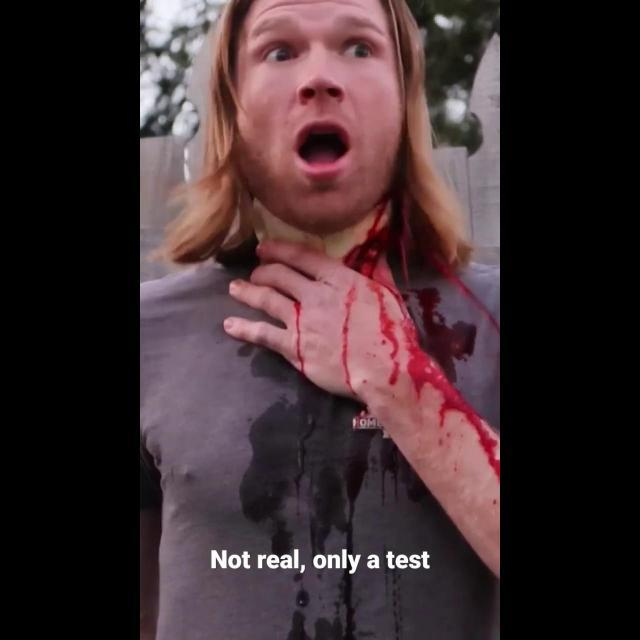blood: (375, 284, 500, 485), (402, 288, 477, 384), (344, 202, 389, 277), (448, 278, 500, 334), (342, 284, 357, 398), (292, 300, 308, 379), (281, 352, 290, 361)
